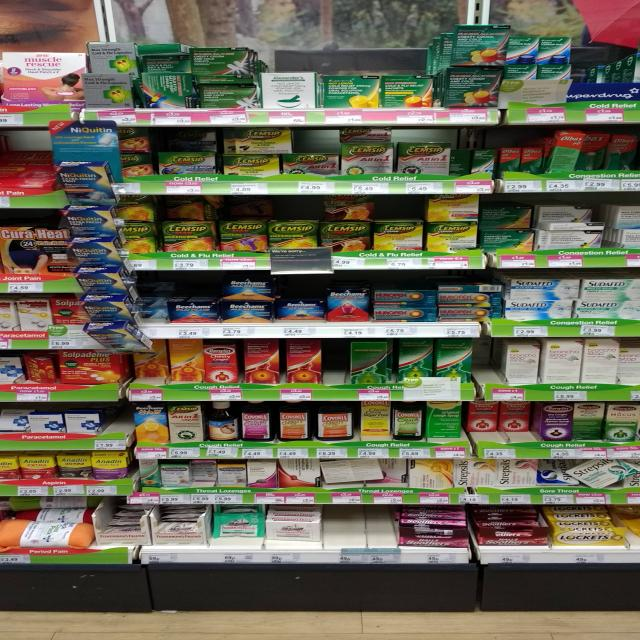void: (356, 507, 392, 564), (578, 68, 611, 122), (325, 507, 353, 566), (613, 67, 640, 125), (103, 404, 130, 450)
